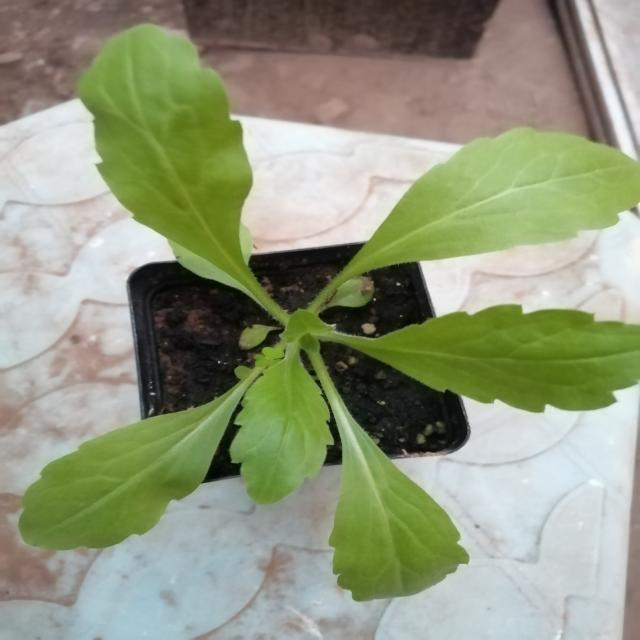horseweed: (57, 40, 604, 568)
